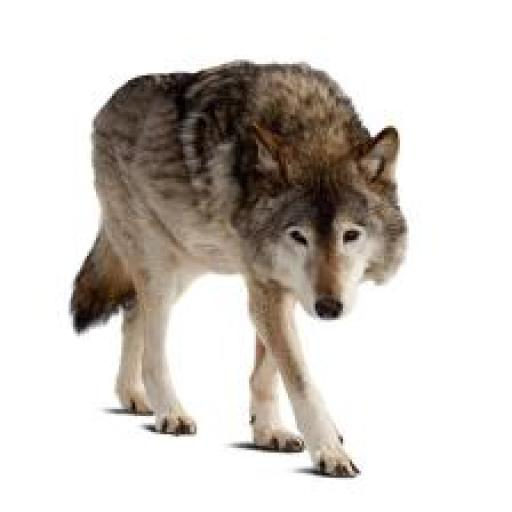wolf: (18, 11, 492, 512)
